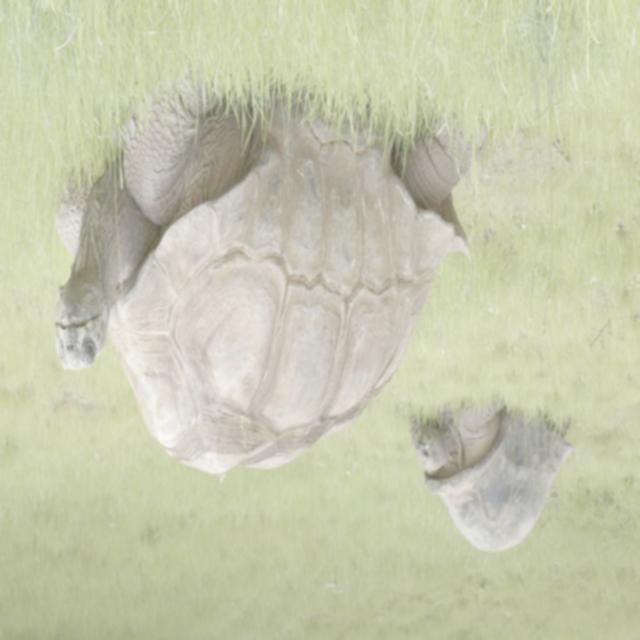tortoise: (28, 57, 504, 484), (403, 385, 578, 559), (46, 279, 110, 374), (412, 420, 446, 479)
